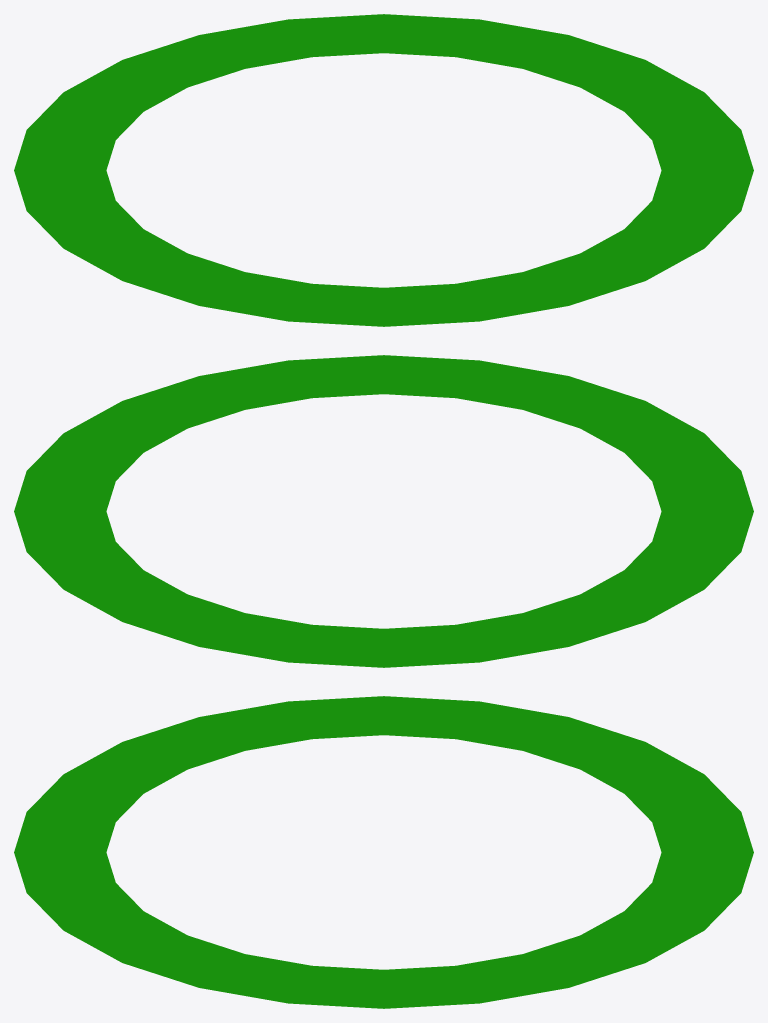
Rendered from unit_selection_ring_fbx.fbx.
3 views of the same model, one above another, from view 1: azimuth 30°, elevation 25°; view 2: azimuth 150°, elevation 25°; view 3: azimuth 270°, elevation 25° (orthographic).
Visible parts, largest first — view 1: Circle.001; view 2: Circle.001; view 3: Circle.001.
Part boxes in pixels (x1,y1,x2,y2): Circle.001: [14, 14, 753, 326]; Circle.001: [14, 355, 753, 667]; Circle.001: [14, 696, 753, 1008].
Size of the model in its own units: 200 by 8.74e-06 by 200.
